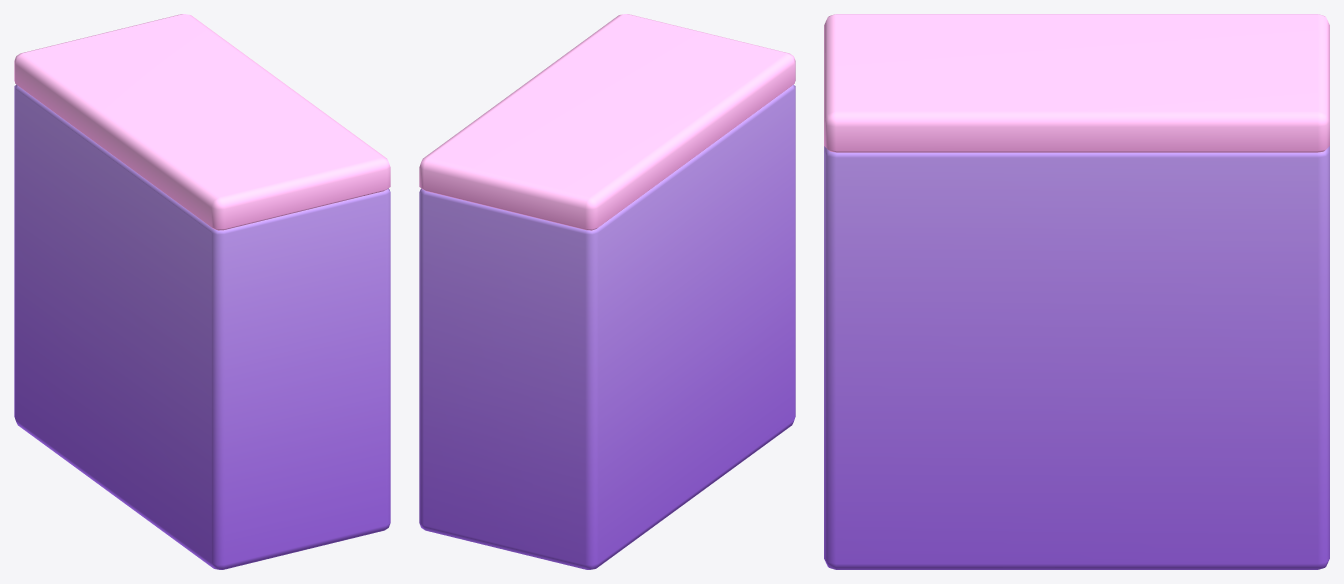
The model's file is Platform_15.glb.
3 renders of one model, left to right at view 1: azimuth 30°, elevation 25°; view 2: azimuth 150°, elevation 25°; view 3: azimuth 270°, elevation 25°, orthographic. The views are drawn at different scales.
Parts seen in each view (by area): view 1: Platform_15; view 2: Platform_15; view 3: Platform_15.
Part boxes in pixels (box(x1,y1,x2,y2)): Platform_15: box(14, 14, 390, 569); Platform_15: box(419, 14, 795, 569); Platform_15: box(824, 14, 1329, 569).
Bounding box in the file's own units: 6 × 12 × 12.
1 material, 1 textured.
